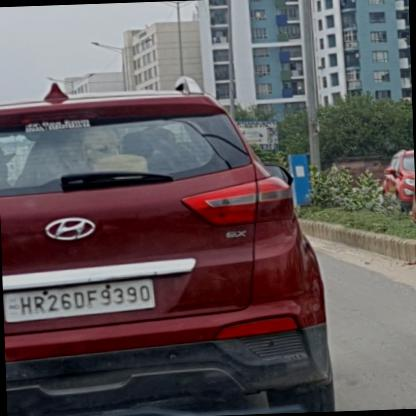car: (0, 70, 340, 415), (380, 150, 416, 210)
